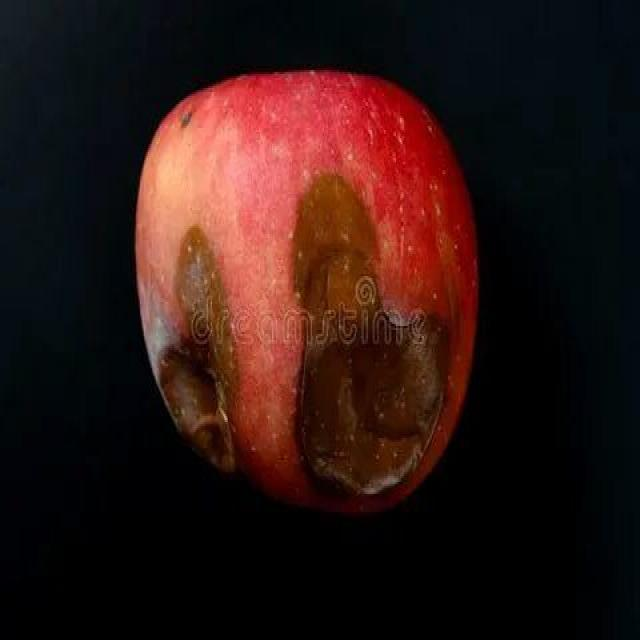Rotten: (136, 85, 496, 533)
